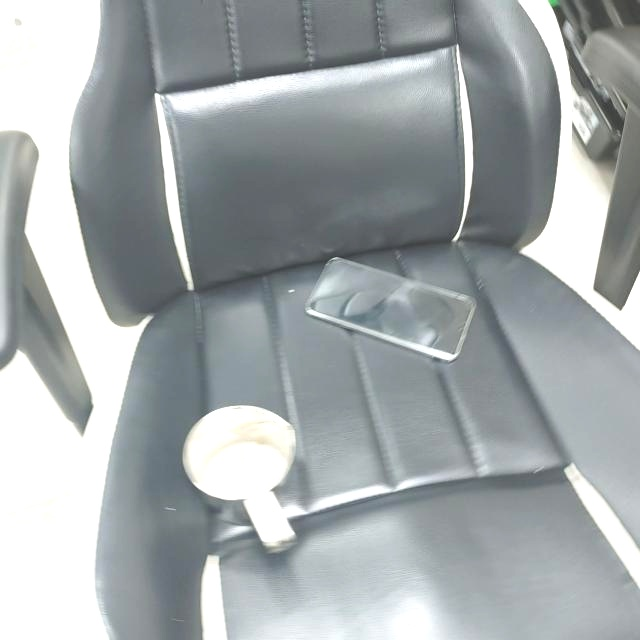cup: (181, 402, 298, 559)
phone: (303, 255, 477, 362)
